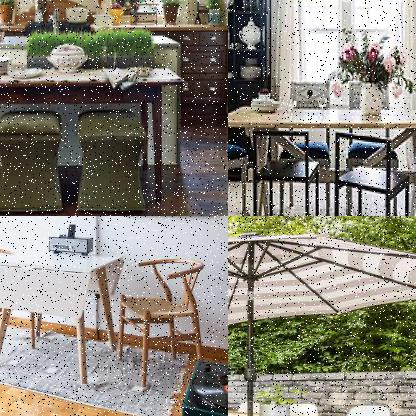table: (0, 59, 193, 215), (228, 104, 415, 215), (0, 250, 132, 389)
